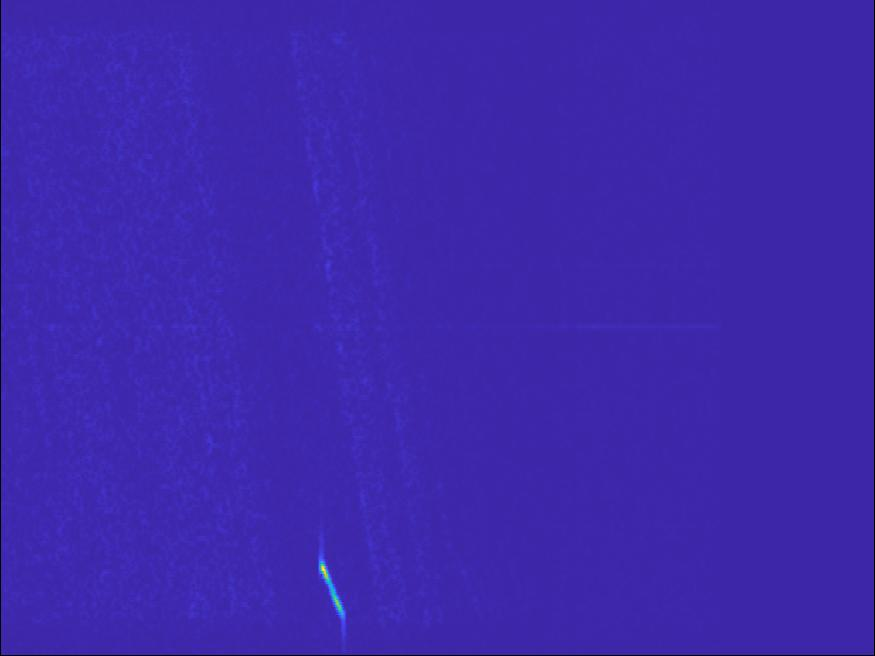Interference: (300, 550, 366, 647)
